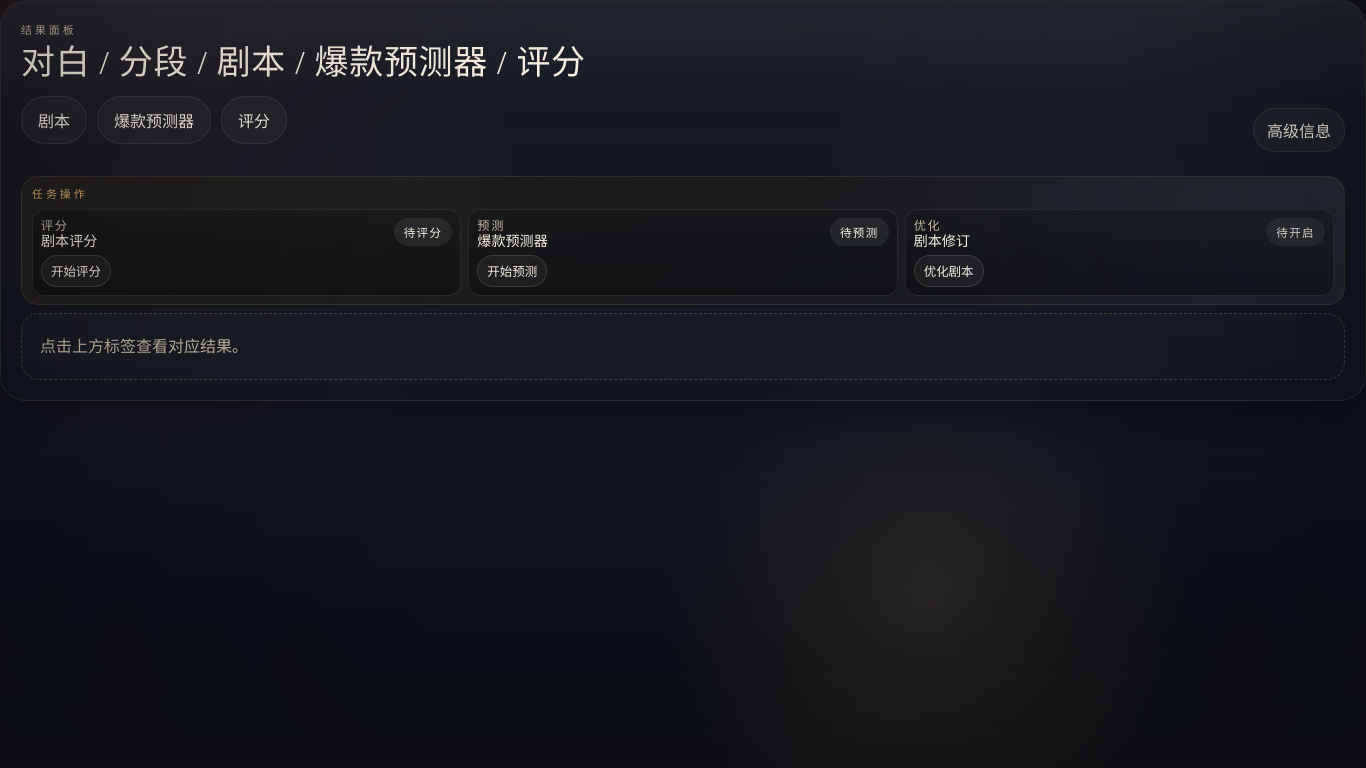
Test: pushes the script action board to the bottom edge of the result panel
Click the tab "剧本": click(54, 120) [21,96,87,144]
(page scrolled)
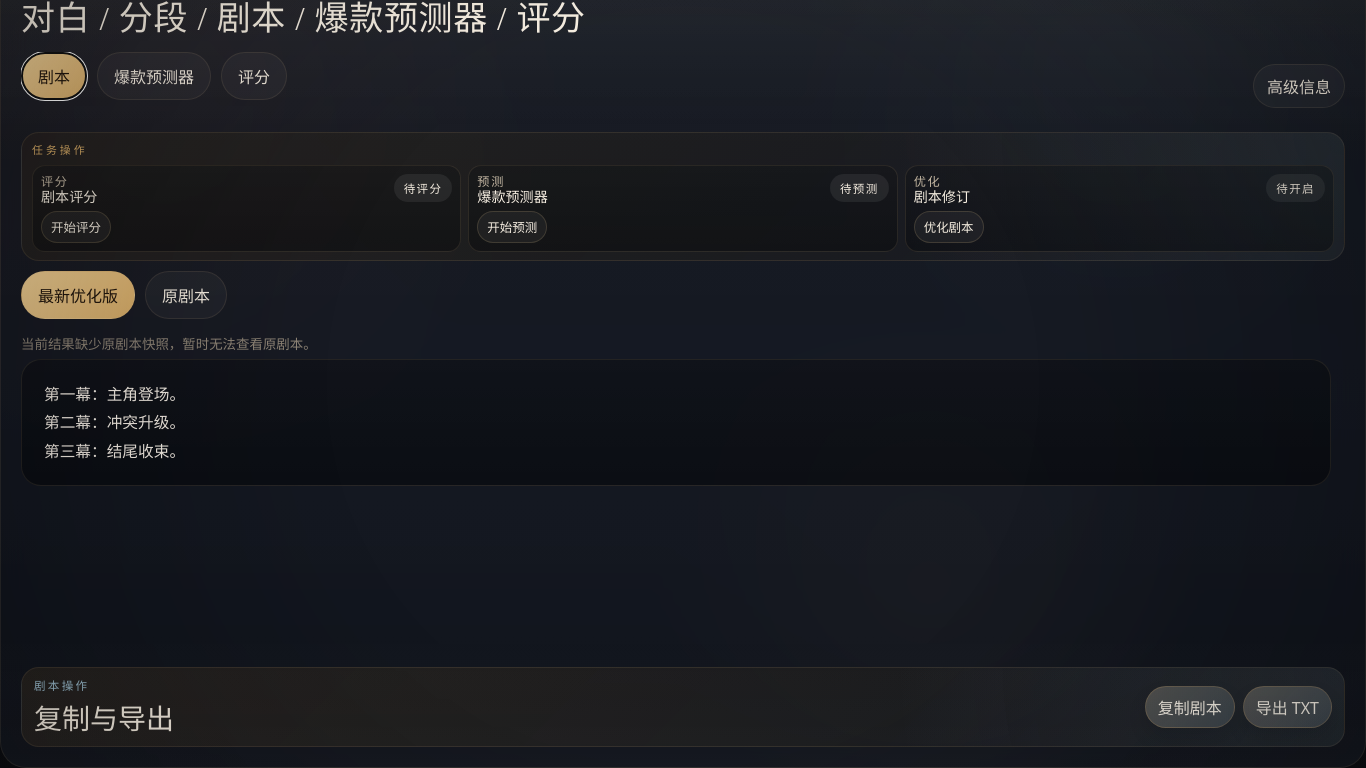
expect the element "剧本操作" is shown: met, box [21,667,1345,747]
